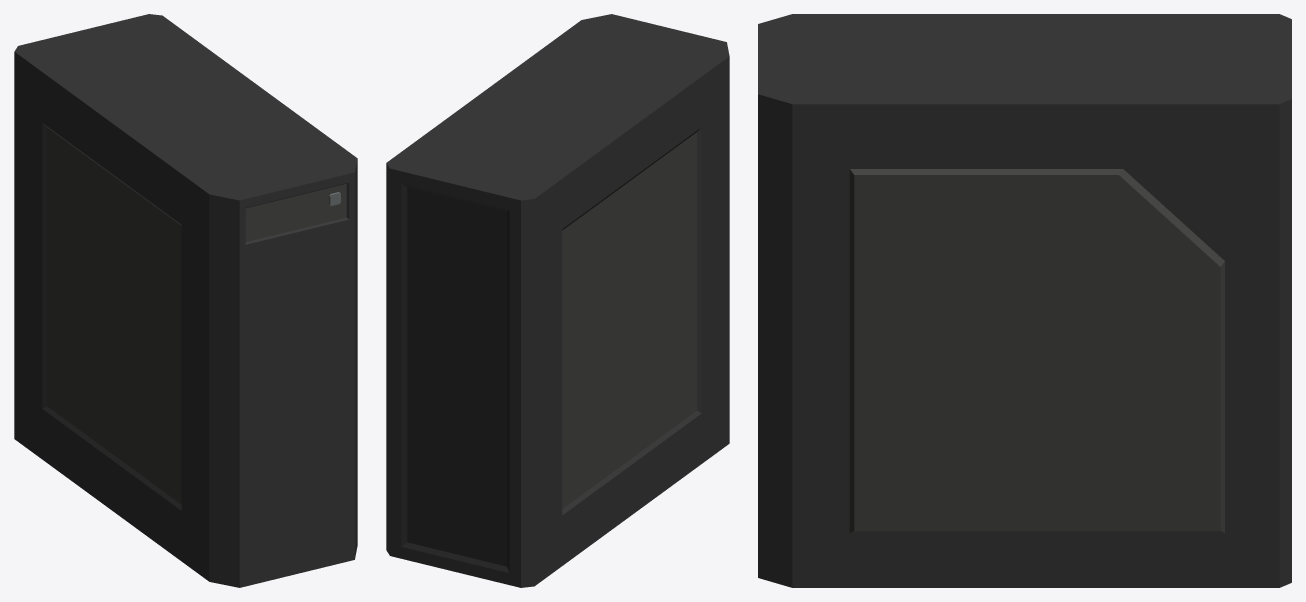
Rendered from SM_Props_Interior_Shop_Electronic_CPU_01.fbx.
The picture shows the model from 3 angles, left to right: view 1: azimuth 30°, elevation 25°; view 2: azimuth 150°, elevation 25°; view 3: azimuth 270°, elevation 25°; orthographic projection. The views are drawn at different scales.
Visible parts, largest first — view 1: SM_Props_Interior_Shop_Electronic_CPU_01; view 2: SM_Props_Interior_Shop_Electronic_CPU_01; view 3: SM_Props_Interior_Shop_Electronic_CPU_01.
Boxes of the visible parts, x1=… form: SM_Props_Interior_Shop_Electronic_CPU_01: x1=14, y1=14, x2=357, y2=587; SM_Props_Interior_Shop_Electronic_CPU_01: x1=386, y1=14, x2=729, y2=587; SM_Props_Interior_Shop_Electronic_CPU_01: x1=758, y1=14, x2=1291, y2=587.
Bounding box in the file's own units: 20.45 × 50 × 50.
